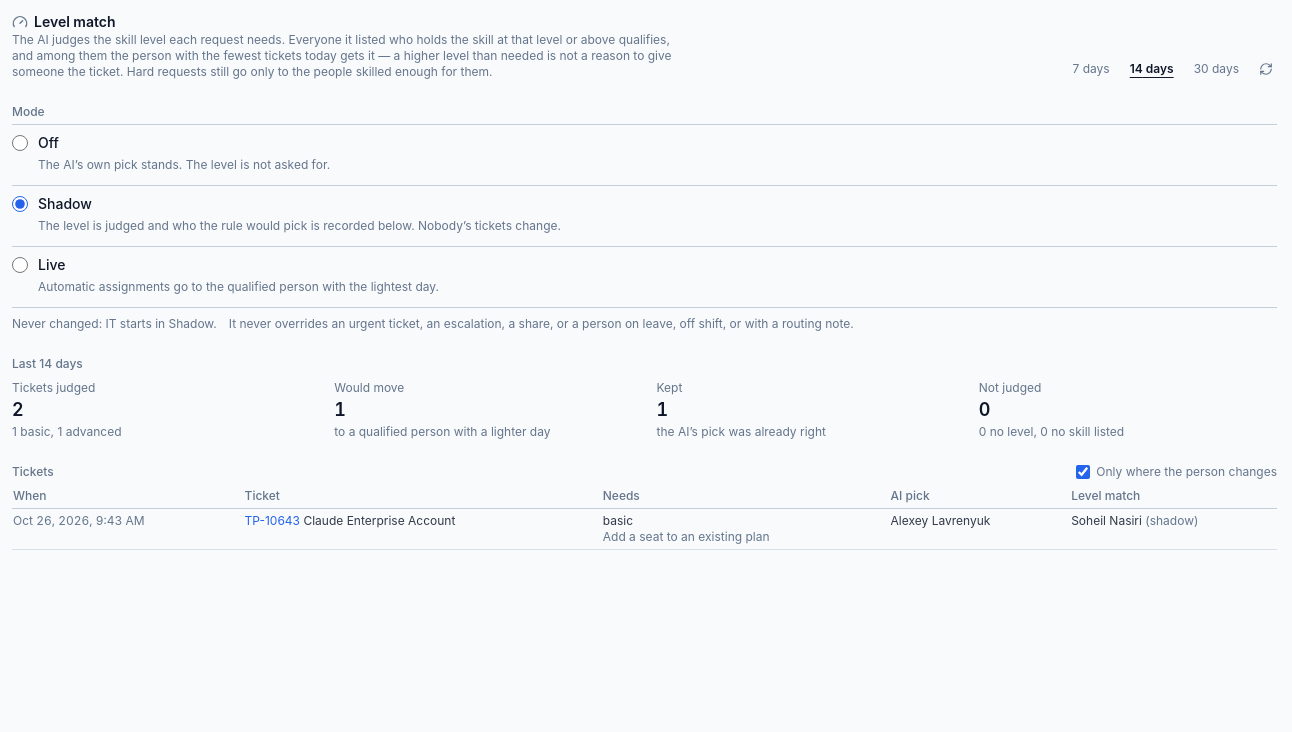
Test case: LevelMatchTab › shows the mode, the tallies and only the tickets whose person would change
The width and height of the screenshot is (1292, 732).
Expected: the radio button labelled "Shadow" is checked, [12,196,28,212]
Expected: the text "1 basic, 1 advanced" is shown, [12,424,122,439]
Click the checkbox labelled "Only where the person changes" at (1083, 472), box [1076,465,1090,479]
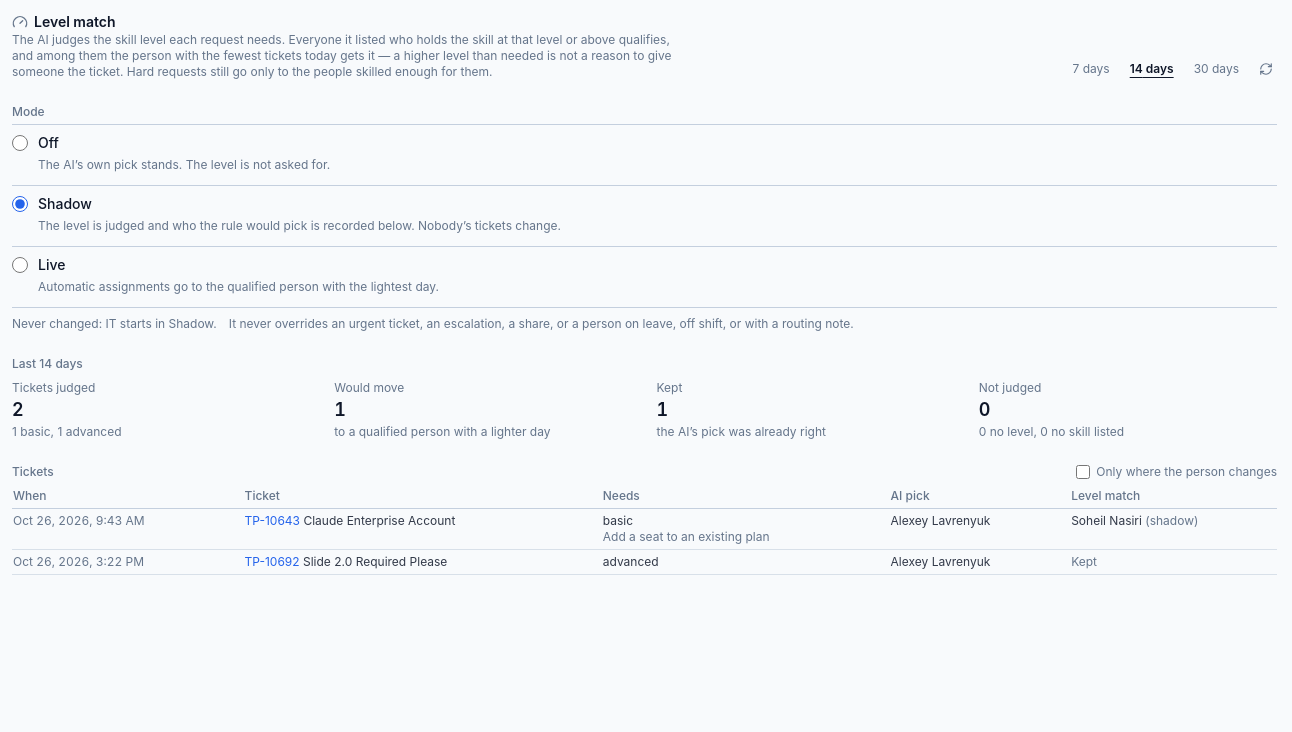
Expected: the text "Kept" is shown 2 times, [656,380,682,395]; [1071,554,1097,569]
Expected: the link "TP-10692" is shown, [245,554,300,569]
